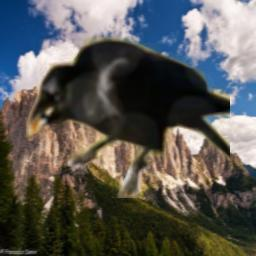Crow: (25, 36, 230, 198)
